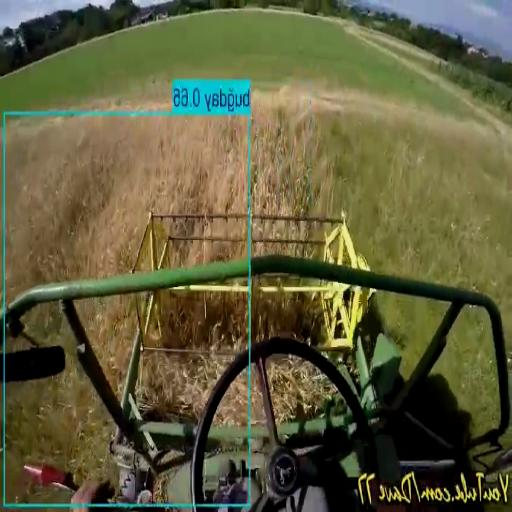bugday: (1, 80, 512, 511)
